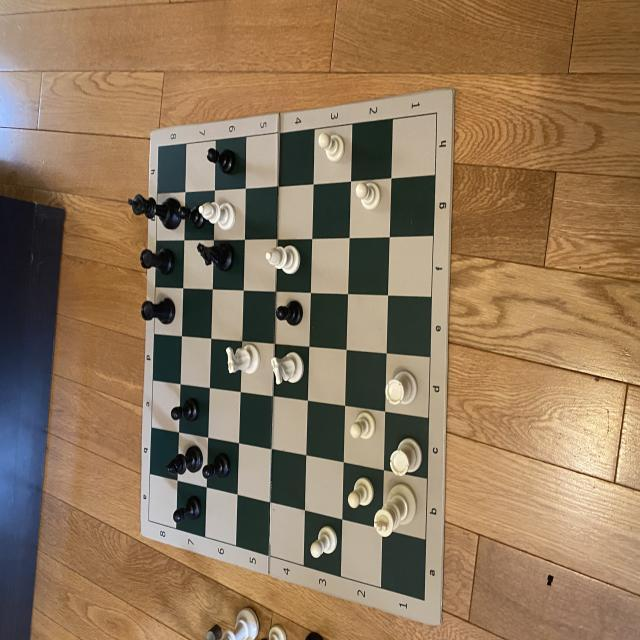chess-table-corners: (431, 104, 446, 125), (420, 590, 434, 608), (154, 141, 164, 160), (144, 514, 154, 532)
